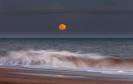moon: (58, 23, 66, 31)
